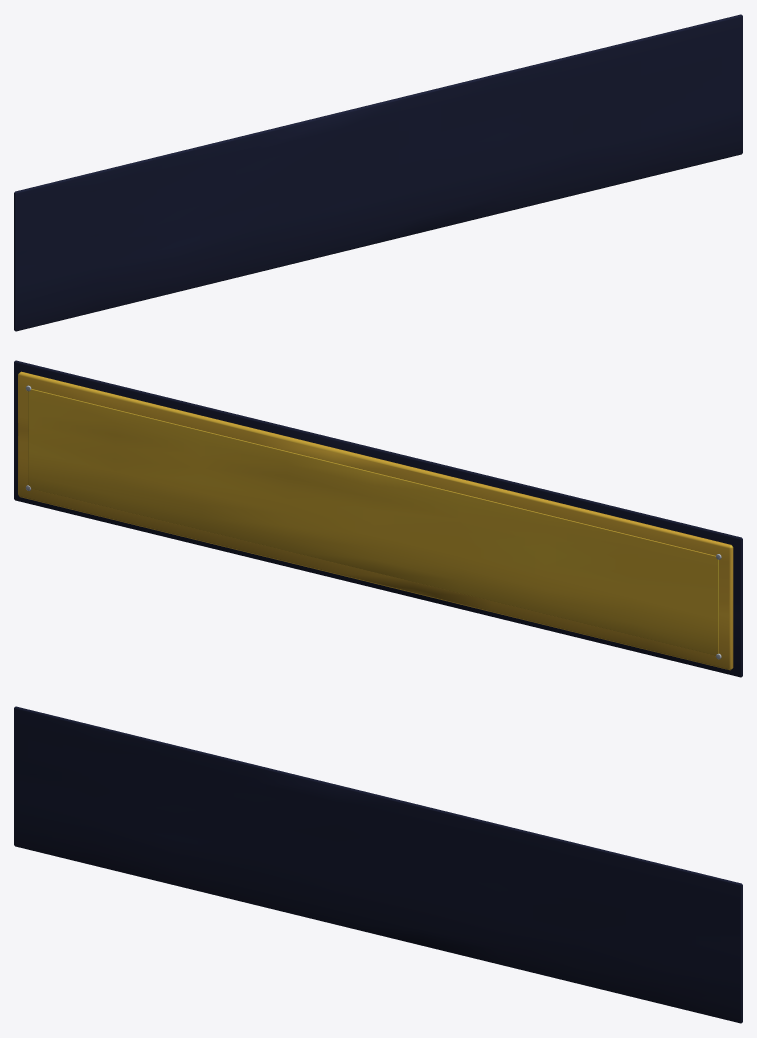
The model's file is SM_Warehouse_Sign.fbx.
The picture shows the model from 3 angles, top to bottom: view 1: azimuth 30°, elevation 25°; view 2: azimuth 150°, elevation 25°; view 3: azimuth 330°, elevation 25°; orthographic projection.
Parts seen in each view (by area): view 1: SM_Warehouse_Sign; view 2: SM_Warehouse_Sign; view 3: SM_Warehouse_Sign.
Boxes of the visible parts, box(x1,y1,x2,y2) form: SM_Warehouse_Sign: box(14, 14, 742, 331); SM_Warehouse_Sign: box(14, 360, 742, 677); SM_Warehouse_Sign: box(14, 706, 742, 1023).
Bounding box in the file's own units: 612 × 112 × 9.25.
